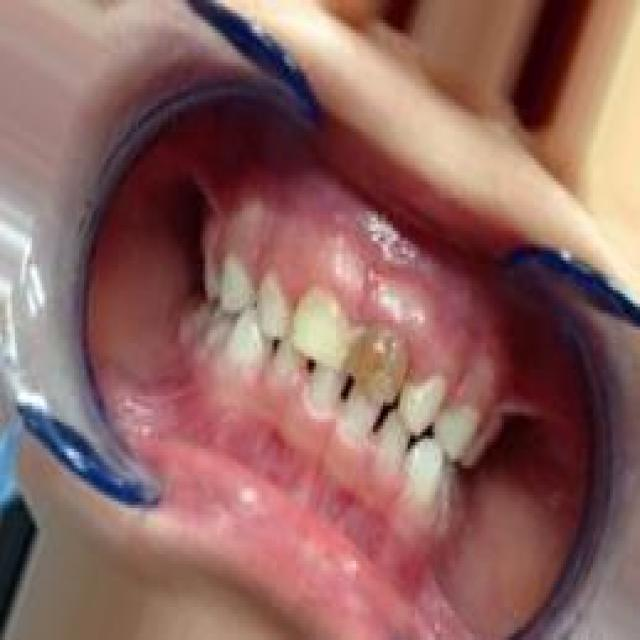caries: (346, 316, 410, 410)
